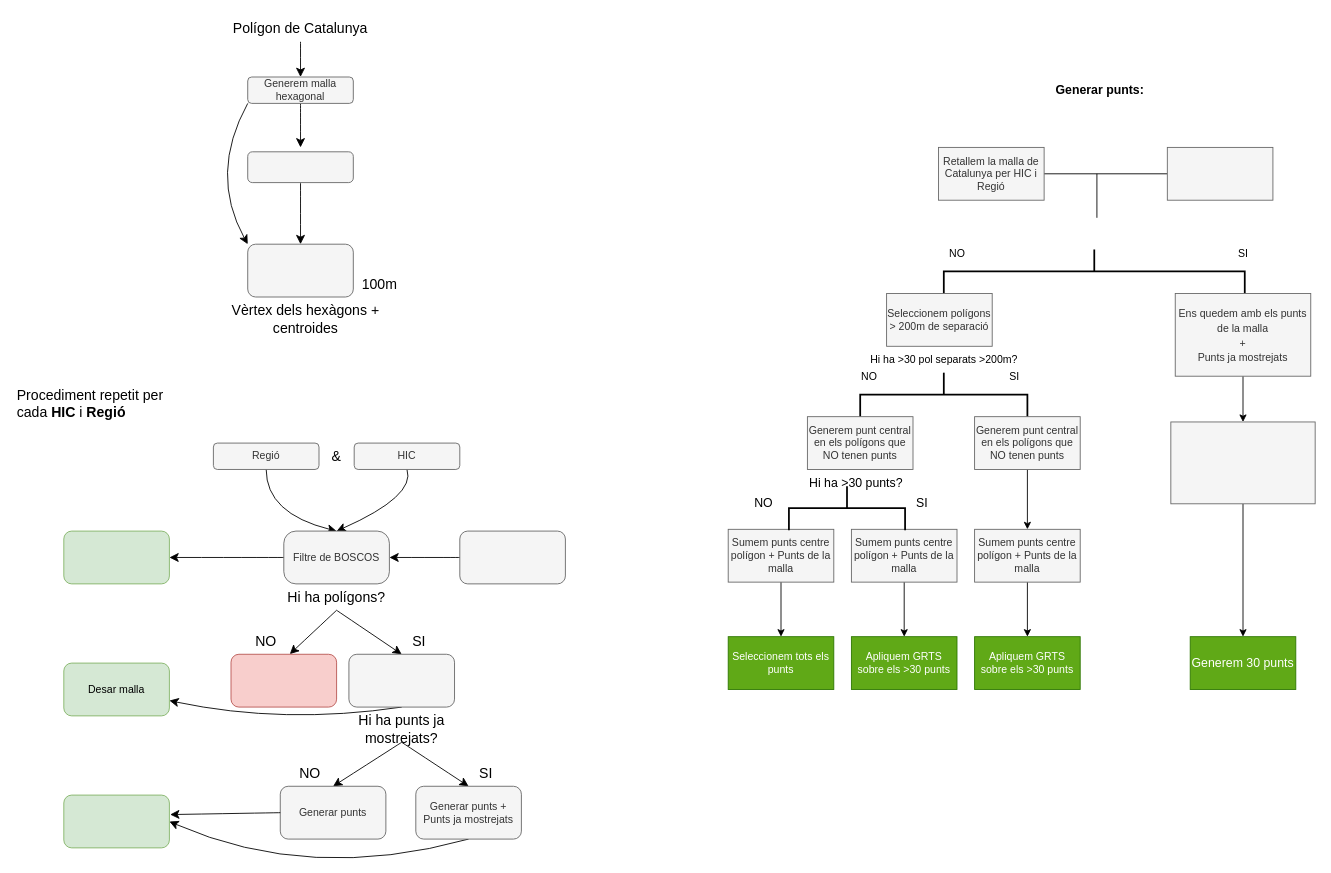
Image size: 1331x873. Some labels were removed from this diagram. Each missing label, with the centre of its shape:
Apliquem GRTS amb dist mínima 200m: point (1242, 462)
Aturar el procés: point (283, 680)
Desar punts: point (116, 821)
Desar Shape del polígon: point (116, 557)
Generem centroides dels hexàgons: point (300, 167)
Hi ha > 30 punts?: point (1093, 271)
Malla per tot Catalunya: point (300, 270)
Punts ja mostrejats: point (1219, 173)
Retallar la malla: point (401, 680)
Si cal aplicar buffer per aquest HIC: point (512, 557)
